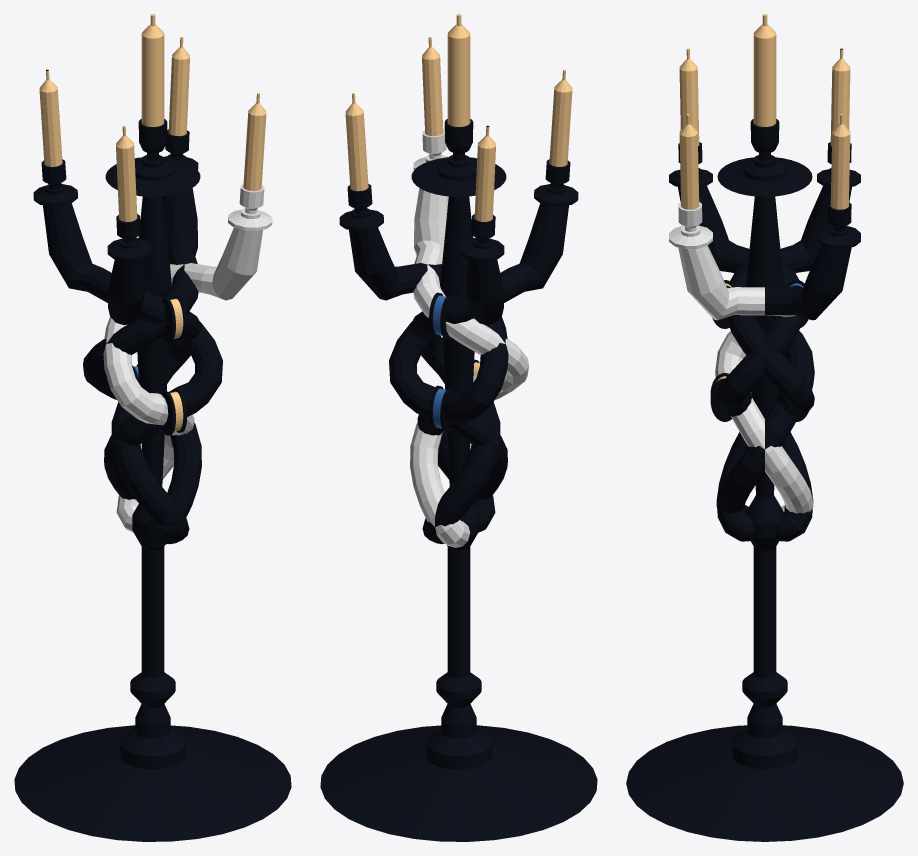
The model's file is candelabras_.fbx.
The picture shows the model from 3 angles, left to right: view 1: azimuth 30°, elevation 25°; view 2: azimuth 150°, elevation 25°; view 3: azimuth 270°, elevation 25°; orthographic projection.
Parts seen in each view (by area): view 1: Cylinder, BezierCurve.005, BezierCurve.004, BezierCurve, BezierCurve.001, BezierCurve.002, BezierCurve.003; view 2: Cylinder, BezierCurve.004, BezierCurve.001, BezierCurve.005, BezierCurve, BezierCurve.002, BezierCurve.003; view 3: Cylinder, BezierCurve.004, BezierCurve, BezierCurve.005, BezierCurve.001, BezierCurve.002, BezierCurve.003.
Part boxes in pixels (x1,y1,x2,y2): Cylinder: (14, 14, 291, 841); BezierCurve.005: (33, 69, 201, 544); BezierCurve.004: (83, 37, 201, 547); BezierCurve: (103, 184, 272, 532); BezierCurve.001: (104, 214, 222, 499); BezierCurve.002: (243, 93, 266, 191); BezierCurve.003: (116, 125, 137, 221); Cylinder: (320, 14, 597, 841); BezierCurve.004: (339, 93, 508, 532); BezierCurve.001: (410, 159, 578, 544); BezierCurve.005: (389, 125, 507, 499); BezierCurve: (410, 129, 528, 547); BezierCurve.002: (422, 37, 443, 136); BezierCurve.003: (549, 69, 572, 166); Cylinder: (626, 14, 903, 841); BezierCurve.004: (716, 114, 860, 513); BezierCurve: (669, 202, 813, 513); BezierCurve.005: (716, 48, 860, 541); BezierCurve.001: (669, 142, 813, 541); BezierCurve.002: (679, 114, 699, 209); BezierCurve.003: (679, 48, 699, 145).
Size of the model in its own units: 38.99 by 119 by 38.99.
